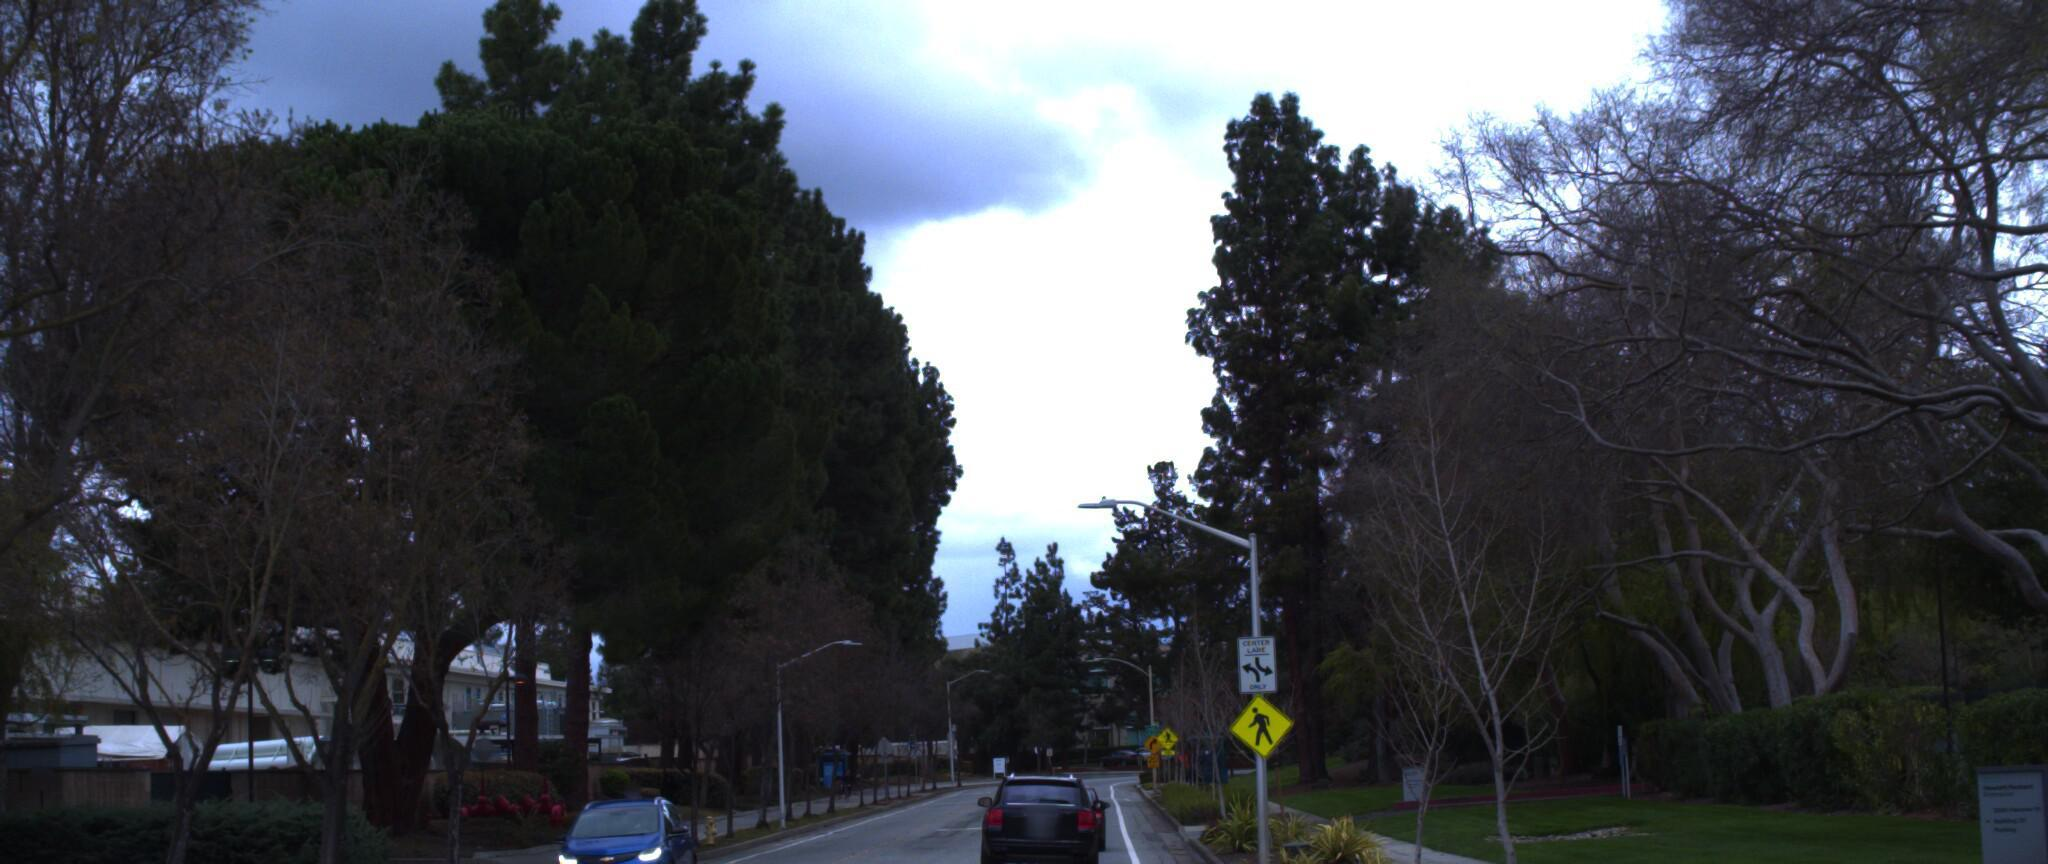car: (967, 750, 1088, 857), (539, 784, 699, 864)
